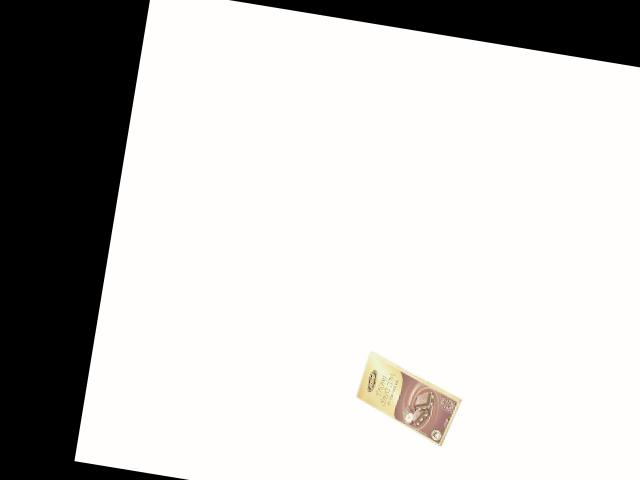chocolate: (349, 346, 477, 450)
